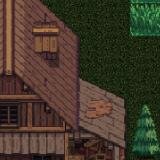Obstacle: (0, 36, 130, 160), (131, 148, 160, 160)
Slow: (130, 0, 160, 36)
